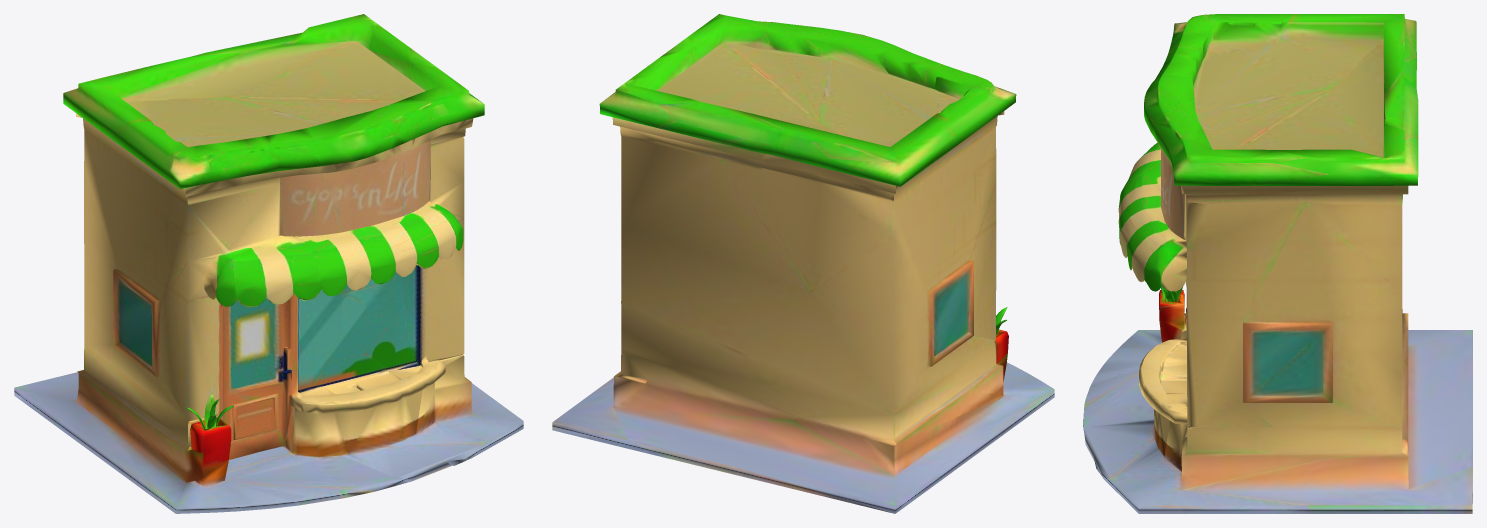
Rendered from shop-corner-512.glb.
The picture shows the model from 3 angles, left to right: view 1: azimuth 30°, elevation 25°; view 2: azimuth 150°, elevation 25°; view 3: azimuth 270°, elevation 25°; orthographic projection. The views are drawn at different scales.
Bounding box in the file's own units: 1.9 × 1.72 × 1.78.
Materials: 1 (1 with a texture image).
